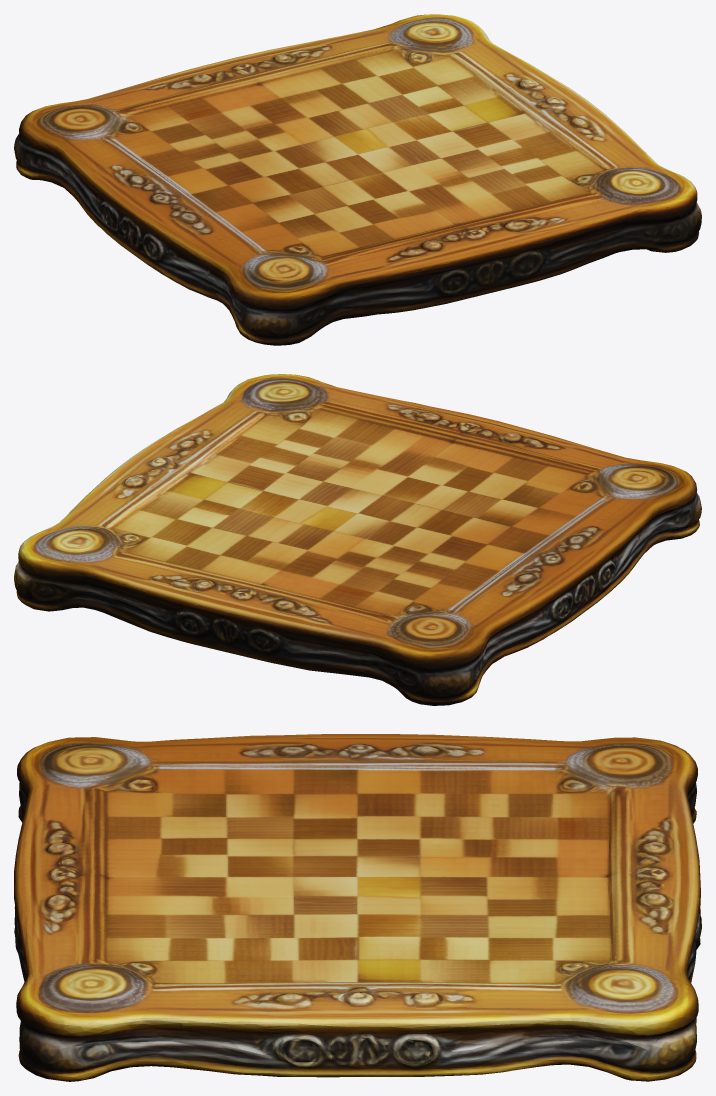
Rendered from wooden-game-board-3d.jpeg.glb.
3 renders of one model, top to bottom at view 1: azimuth 30°, elevation 25°; view 2: azimuth 150°, elevation 25°; view 3: azimuth 270°, elevation 25°, orthographic. The views are drawn at different scales.
Visible parts, largest first — view 1: world; view 2: world; view 3: world.
Boxes of the visible parts, bbox=[...] form: world: bbox=[14, 14, 701, 345]; world: bbox=[14, 374, 701, 705]; world: bbox=[14, 734, 701, 1081].
Bounding box in the file's own units: 0.9959 × 0.1165 × 0.9951.
1 material, 1 textured.
